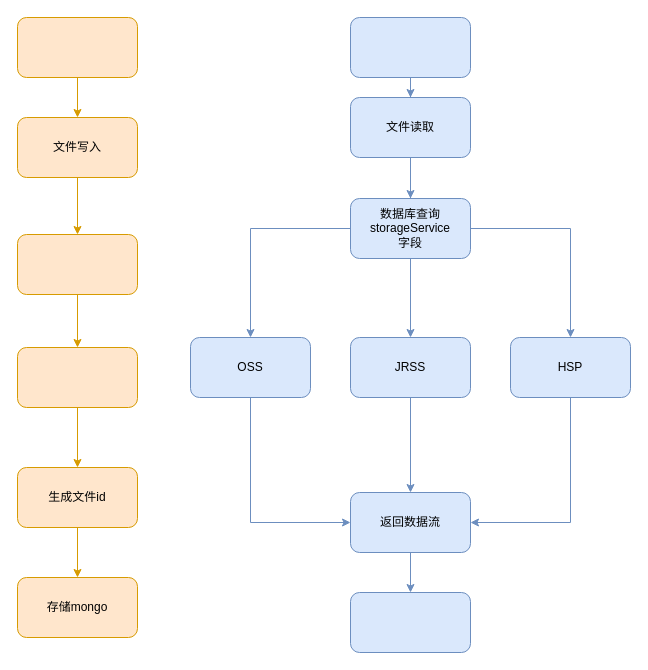
Image size: 648x670. Some labels were removed from this diagram. The shapes that lost their labels are listed below. From the top down, each one's centre as x and y in pixels, then its label:
the point at 77,47: cms后台
the point at 410,47: cms前台
the point at 77,264: oss存储
the point at 77,377: storageService 值为jrss
the point at 410,622: 在浏览器展示
